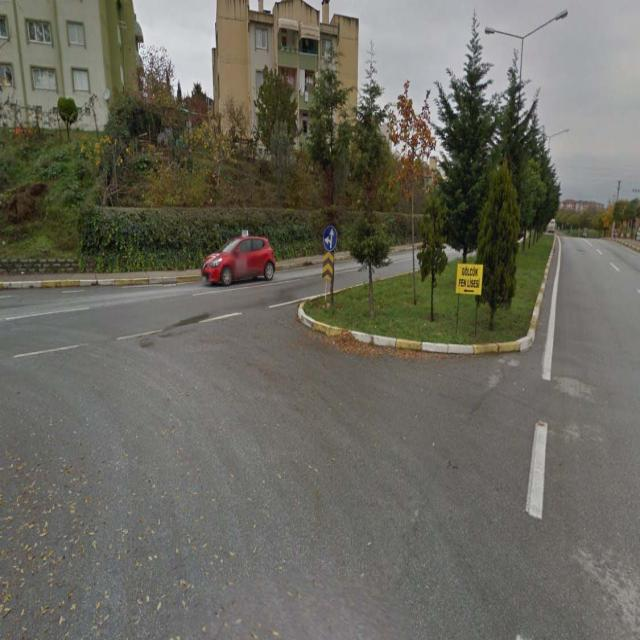ilerisol: (322, 225, 337, 252)
